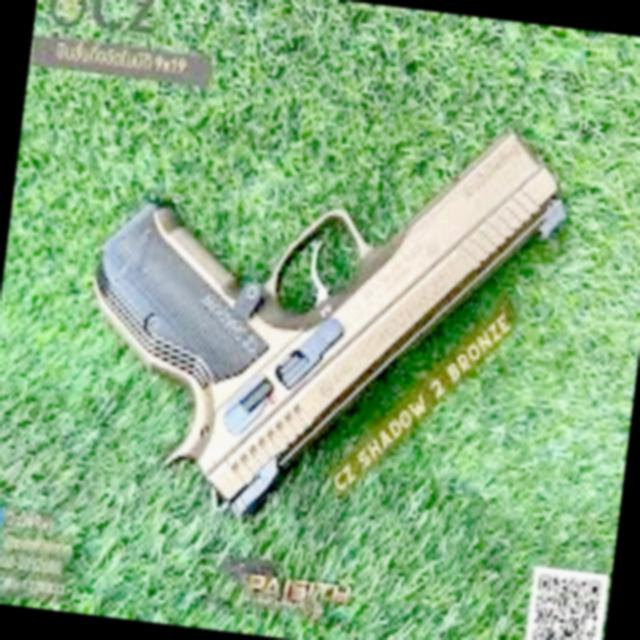semi automatic: (51, 60, 585, 562)
